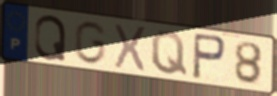8: (232, 41, 266, 86)
G: (72, 19, 109, 66)
P: (191, 31, 228, 82)
Q: (150, 29, 190, 78), (32, 14, 68, 63)
X: (113, 22, 149, 75)
